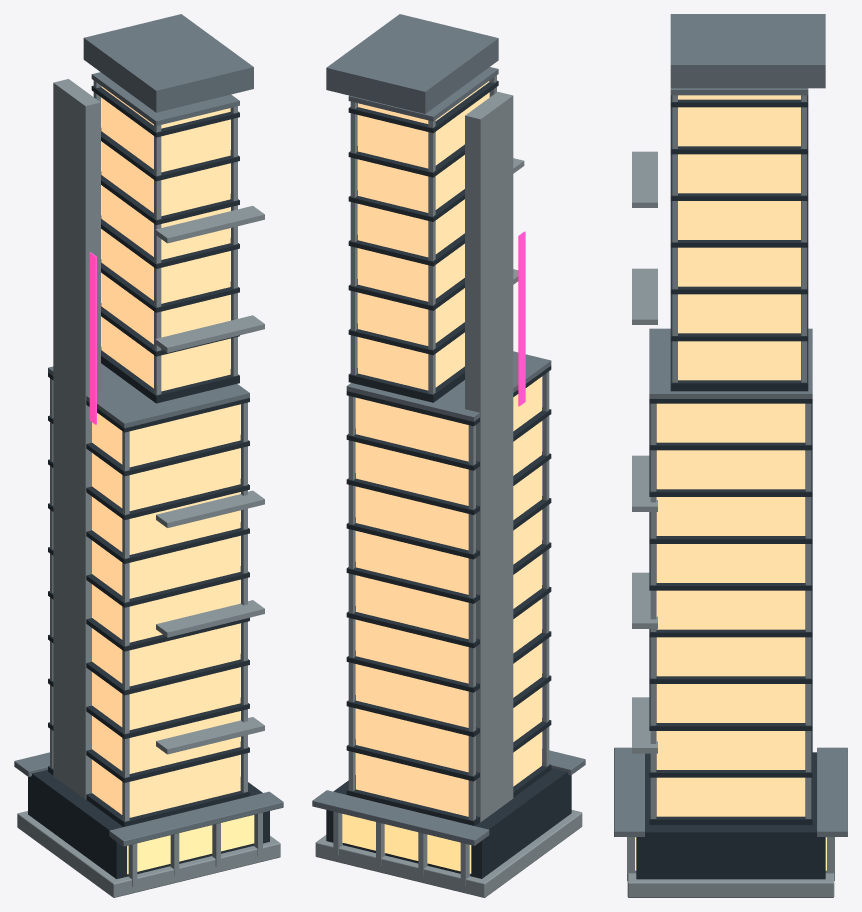
Rendered from vrx_city_hotel_b_LOD0.fbx.
3 renders of one model, left to right at view 1: azimuth 30°, elevation 25°; view 2: azimuth 150°, elevation 25°; view 3: azimuth 270°, elevation 25°, orthographic. The views are drawn at different scales.
Visible parts, largest first — view 1: vrx_city_hotel_b_LOD0; view 2: vrx_city_hotel_b_LOD0; view 3: vrx_city_hotel_b_LOD0.
Boxes of the visible parts, x1=… form: vrx_city_hotel_b_LOD0: x1=14, y1=14, x2=283, y2=897; vrx_city_hotel_b_LOD0: x1=312, y1=14, x2=585, y2=897; vrx_city_hotel_b_LOD0: x1=614, y1=14, x2=847, y2=897.
Size of the model in its own units: 24 by 106 by 27.2.
